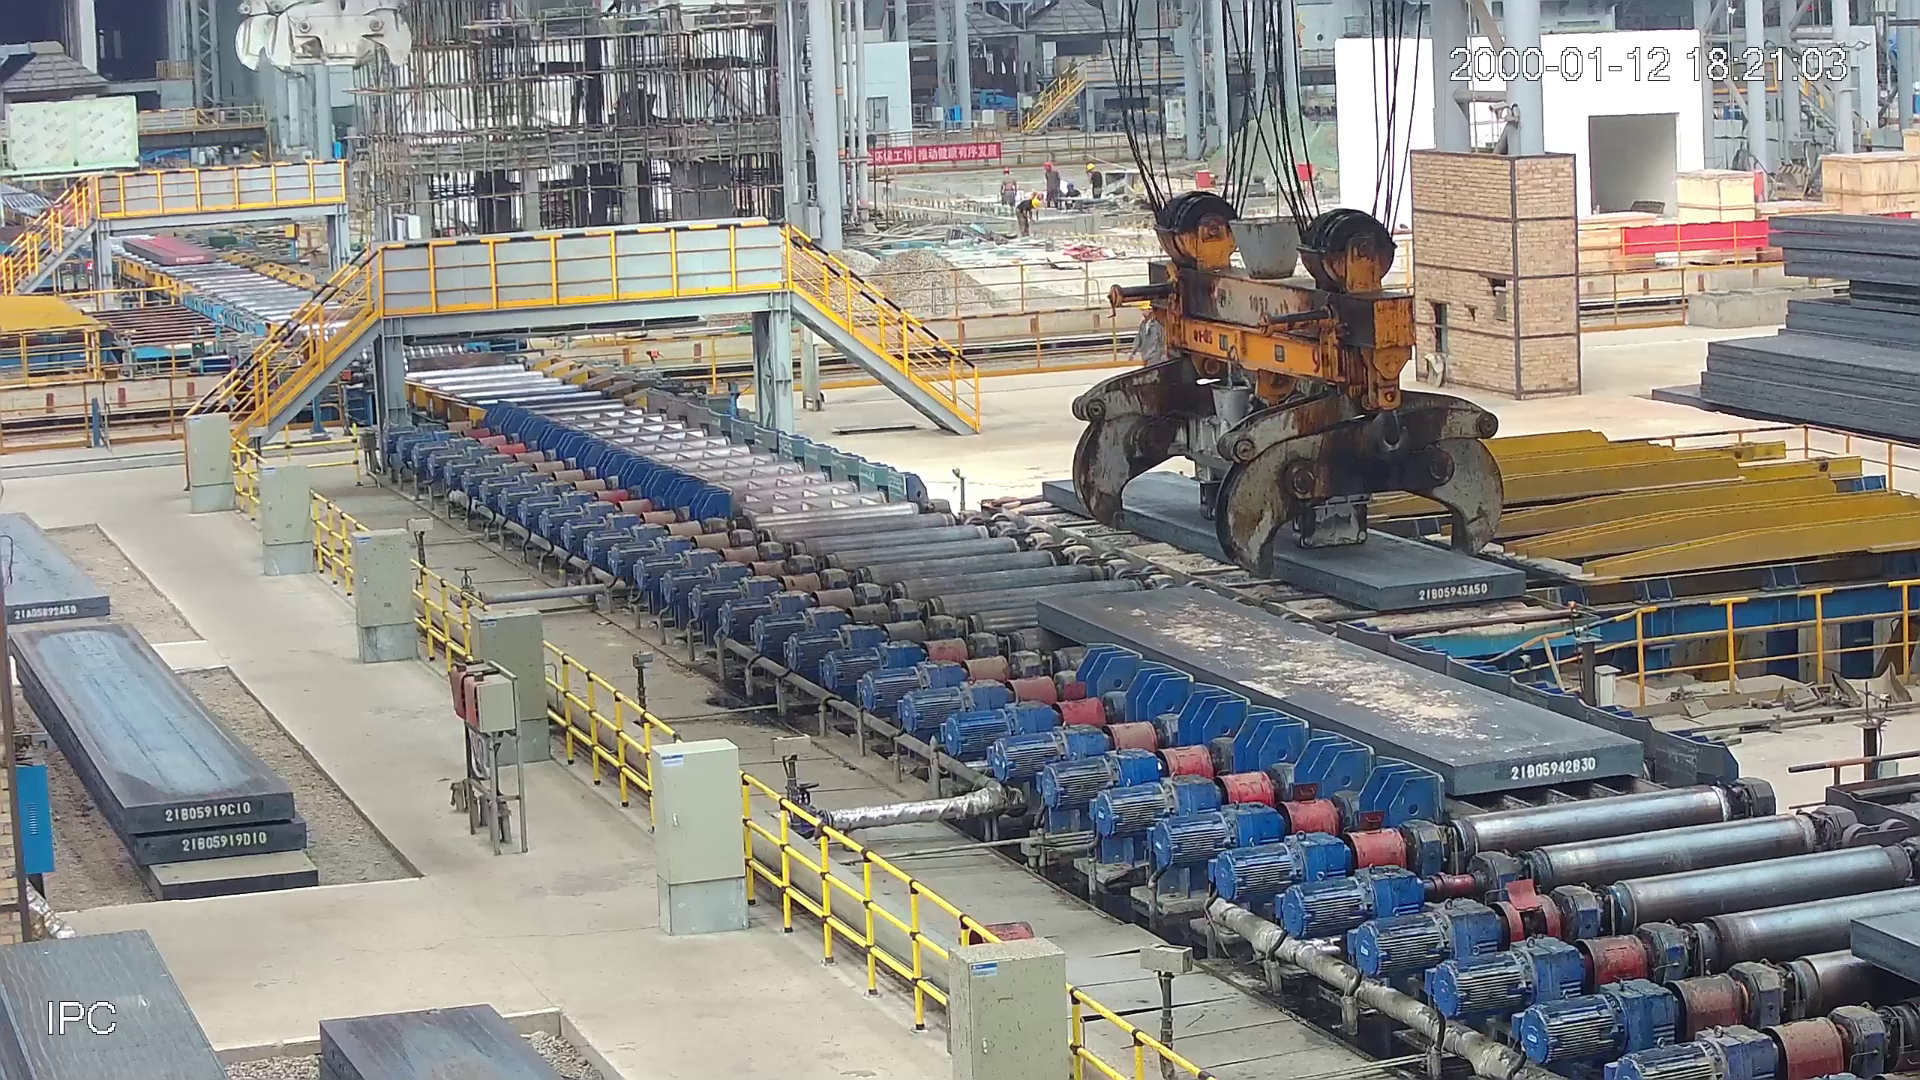craneandslab: (1025, 177, 1538, 626)
slab: (1025, 588, 1654, 802), (121, 232, 222, 266)
